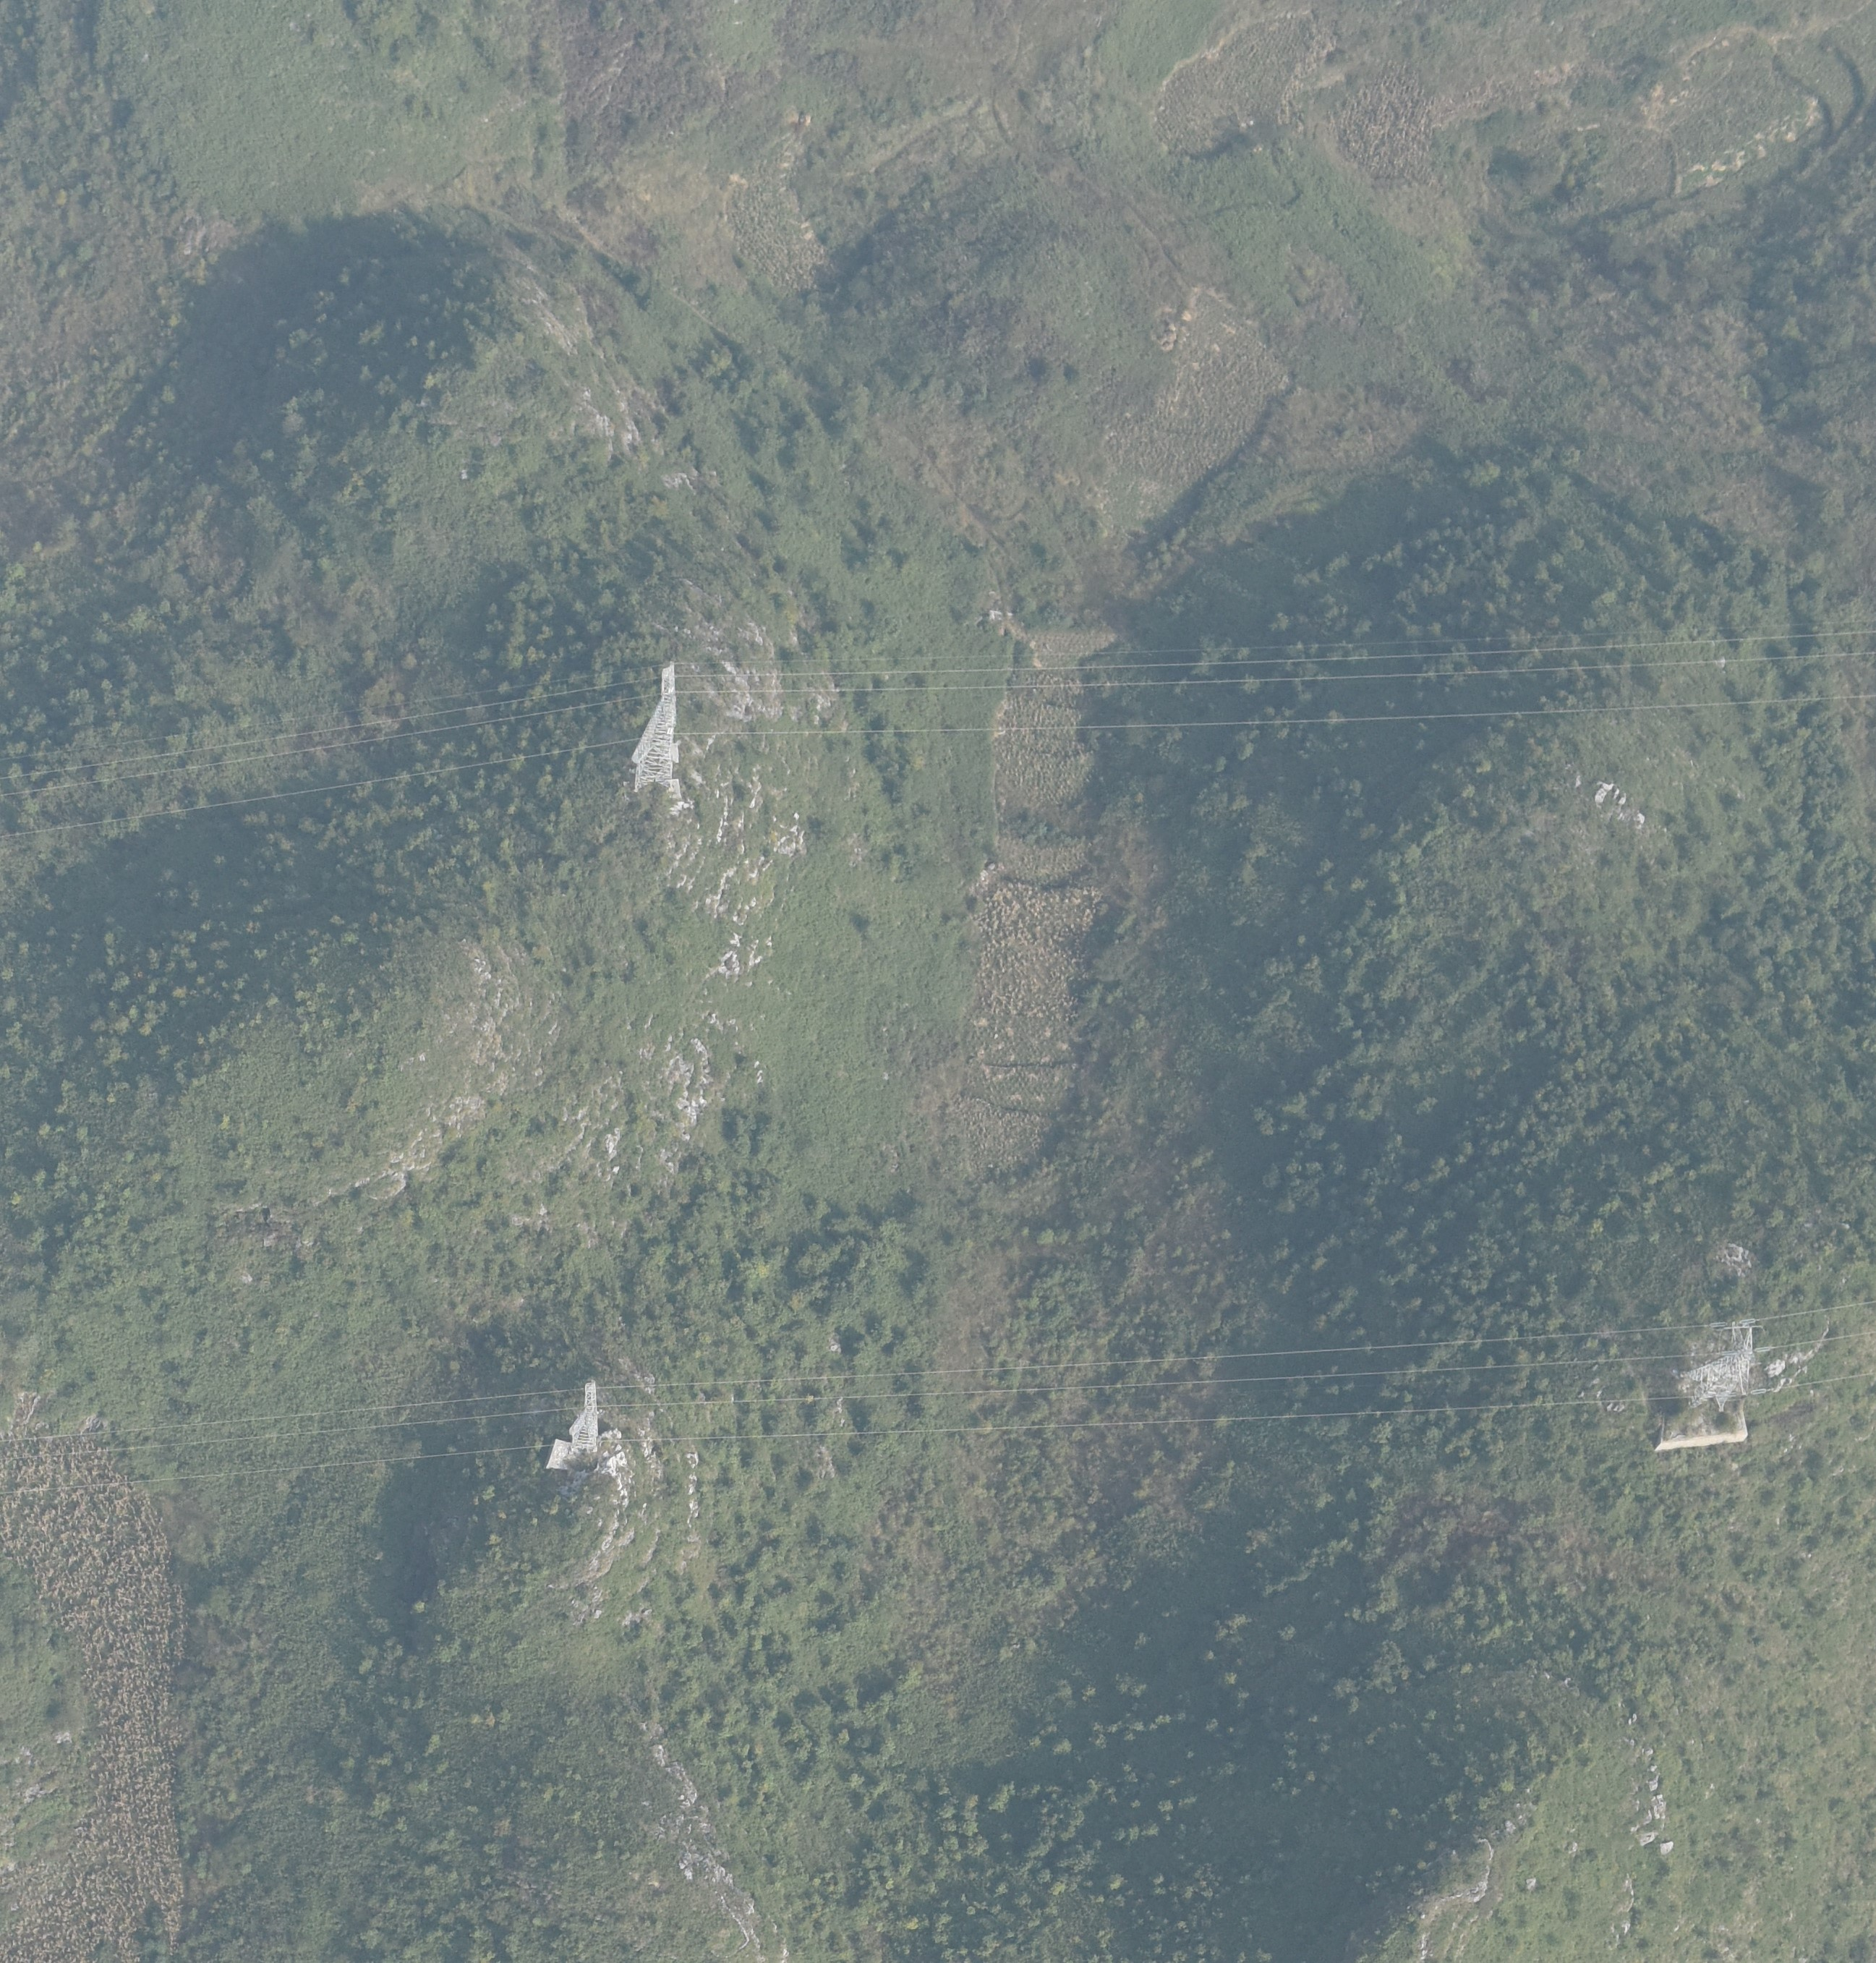cable-tower: (1681, 1318, 1771, 1414), (629, 663, 675, 787), (568, 1383, 598, 1465)
